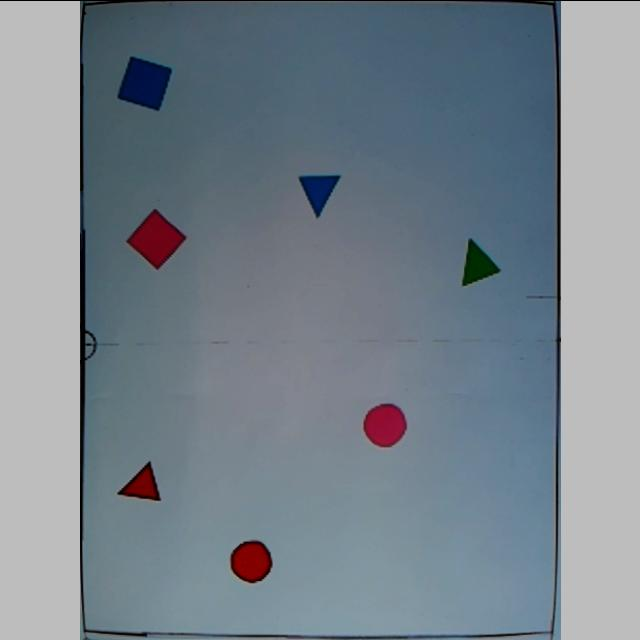blueSquare: (116, 56, 172, 110)
blueTriangle: (297, 173, 341, 217)
greenTriangle: (460, 237, 500, 285)
pinkCircle: (362, 402, 406, 446)
pinkSquare: (125, 207, 185, 269)
redCircle: (225, 538, 272, 584)
redTriangle: (115, 458, 163, 507)
